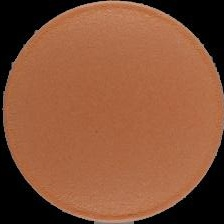63187-642: (0, 0, 224, 224)
